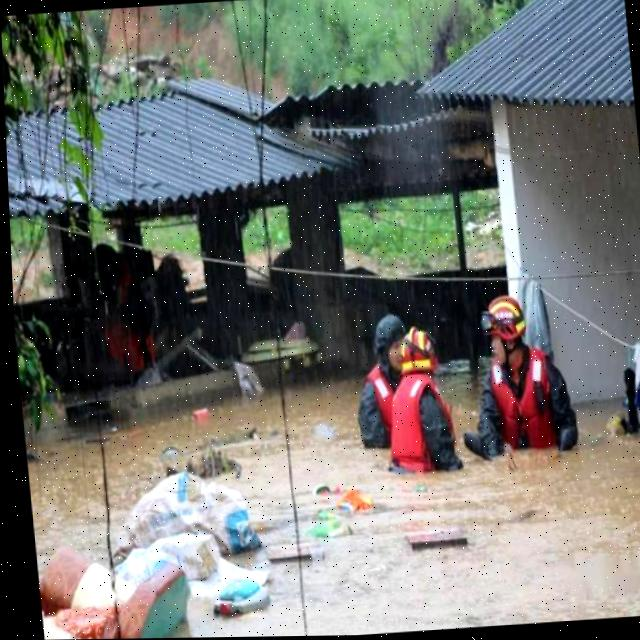rescuer: (450, 275, 593, 479), (383, 314, 471, 494), (342, 299, 420, 467)
